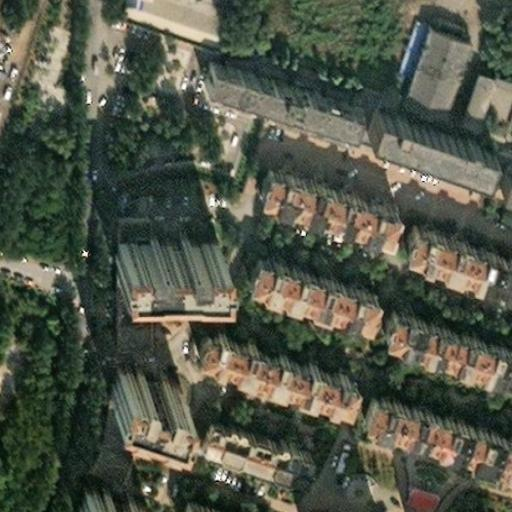building: (181, 313, 347, 396), (350, 373, 512, 458), (191, 51, 351, 124), (368, 290, 512, 369), (246, 152, 392, 227), (235, 238, 368, 309), (390, 207, 512, 280), (181, 414, 301, 481), (357, 108, 477, 169), (388, 21, 461, 112), (94, 353, 176, 413), (80, 393, 132, 468), (109, 0, 219, 33), (97, 228, 206, 260), (61, 471, 139, 512), (456, 63, 512, 119), (109, 258, 137, 337), (165, 487, 251, 512), (140, 34, 182, 83), (488, 161, 512, 191), (245, 497, 285, 512), (108, 213, 135, 228)
